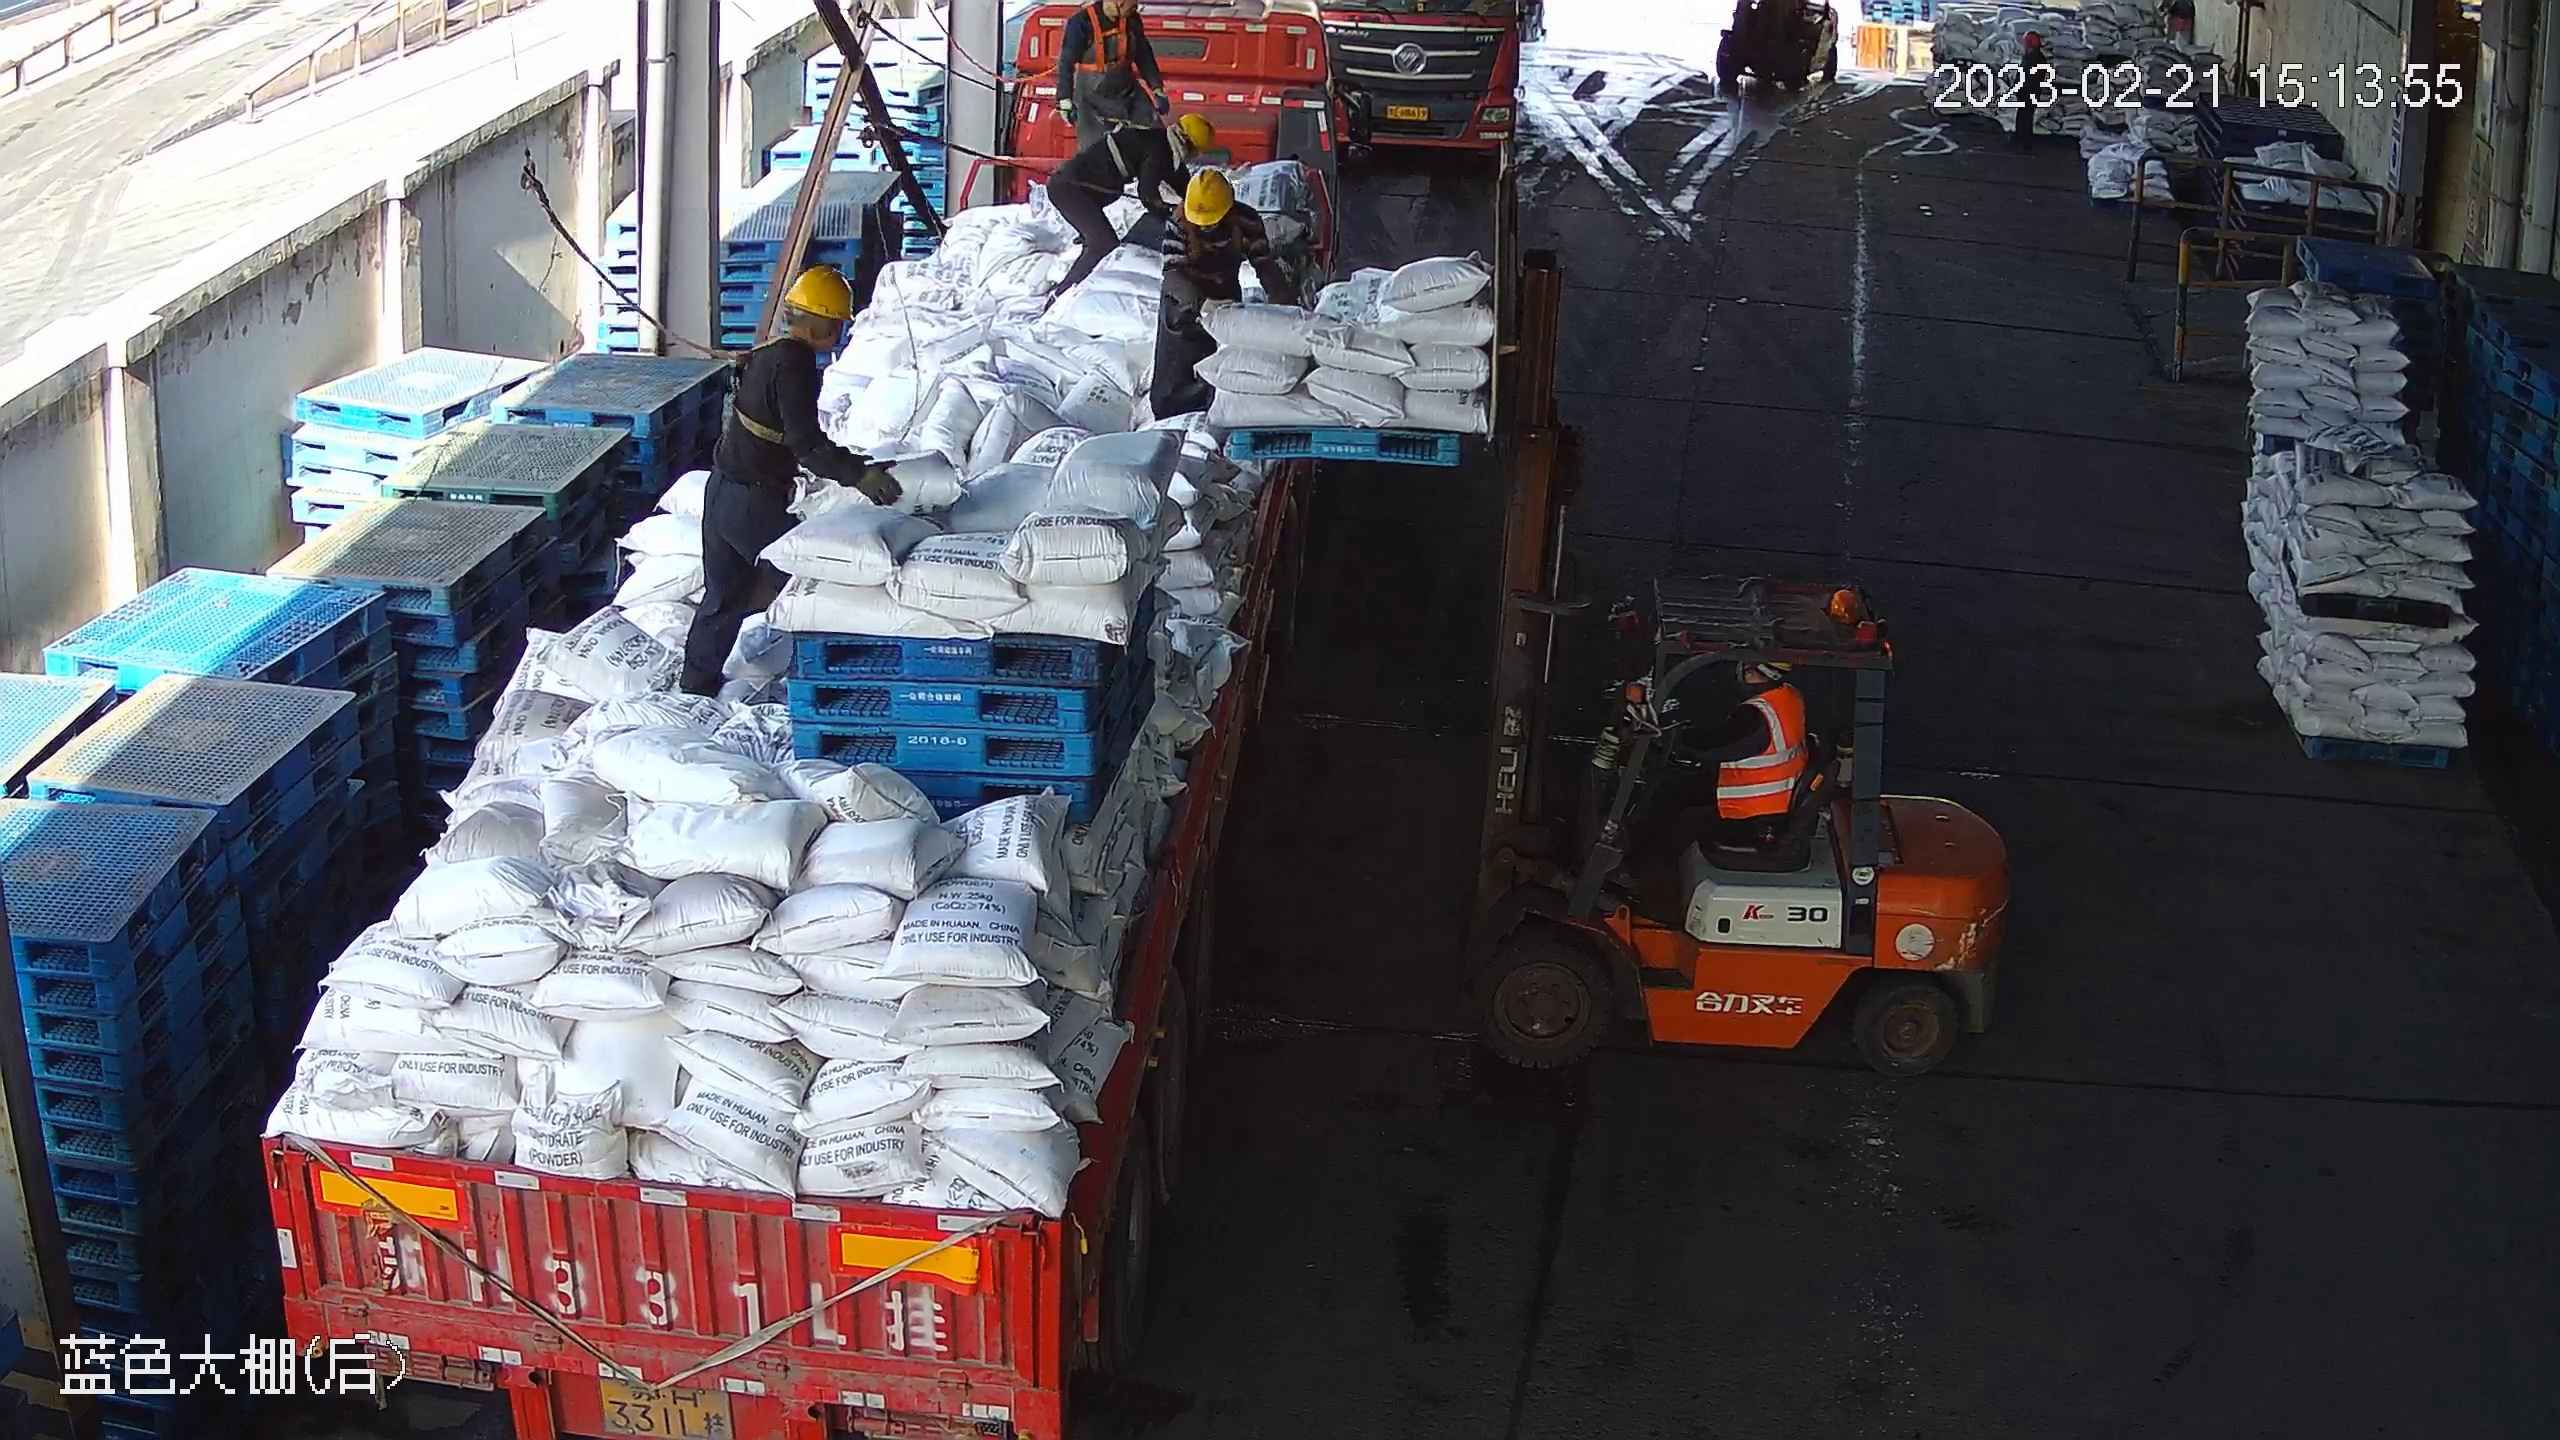belt: (723, 335, 799, 446), (1076, 6, 1131, 74), (1182, 209, 1241, 268), (1103, 118, 1153, 178)
head: (739, 265, 855, 378), (1165, 170, 1259, 249), (1141, 113, 1217, 172)
helmet: (782, 266, 856, 321), (1183, 168, 1235, 226), (1179, 113, 1216, 155)
people: (680, 265, 907, 696), (1607, 659, 1810, 879), (1151, 169, 1300, 427), (1044, 112, 1216, 313), (1055, 1, 1171, 149)
truck: (256, 8, 1375, 1440), (1316, 1, 1521, 161)
